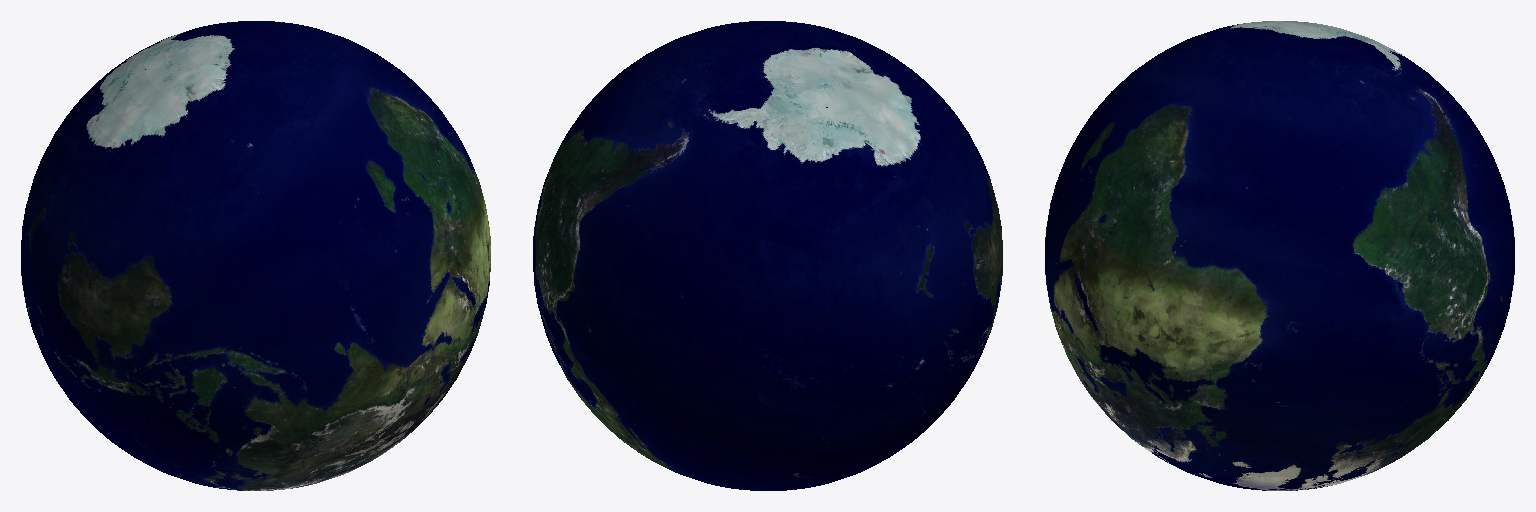
3 renders of one model, left to right at view 1: azimuth 30°, elevation 25°; view 2: azimuth 150°, elevation 25°; view 3: azimuth 270°, elevation 25°, orthographic.
Parts seen in each view (by area): view 1: Sphere_Sphere.002; view 2: Sphere_Sphere.002; view 3: Sphere_Sphere.002.
Part boxes in pixels (bbox=[...]): Sphere_Sphere.002: bbox=[21, 21, 490, 490]; Sphere_Sphere.002: bbox=[533, 21, 1002, 490]; Sphere_Sphere.002: bbox=[1045, 21, 1514, 490].
Size of the model in its own units: 2 by 2 by 2.
Materials: 1 (1 with a texture image).